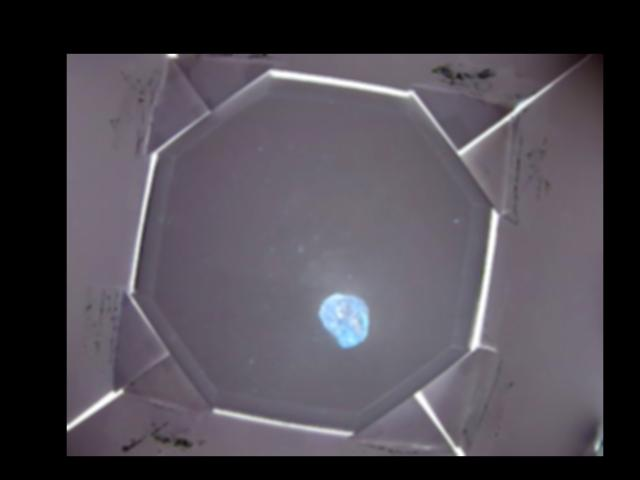Brisk: (319, 292, 370, 348)
